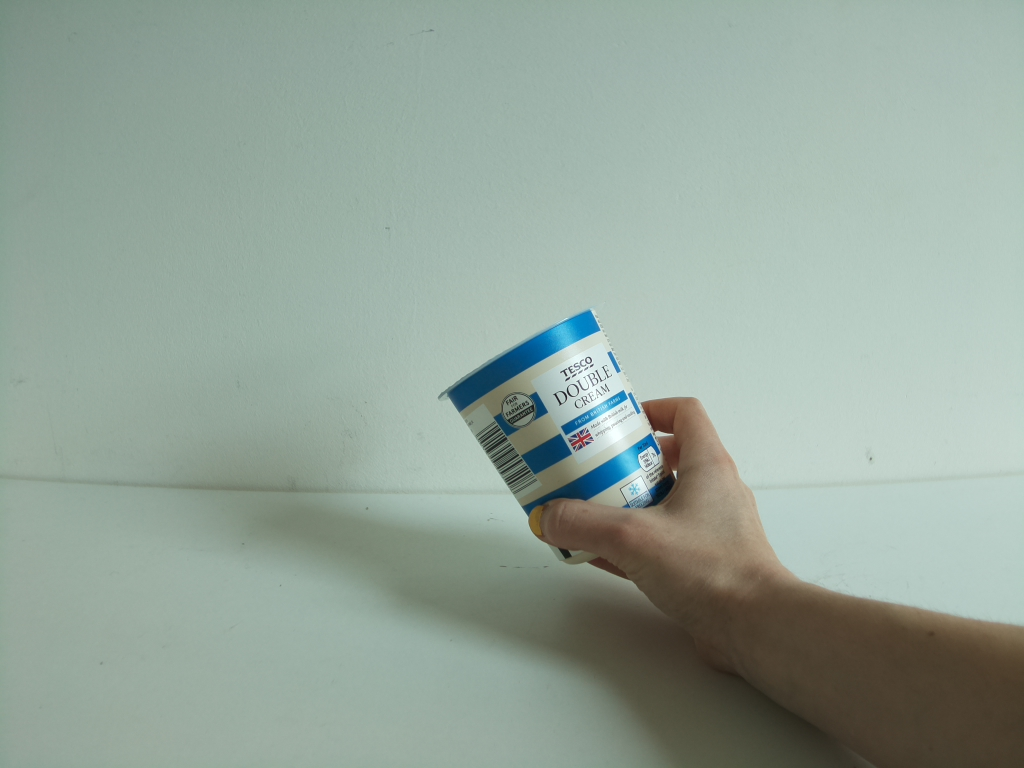cream: (440, 310, 680, 563)
